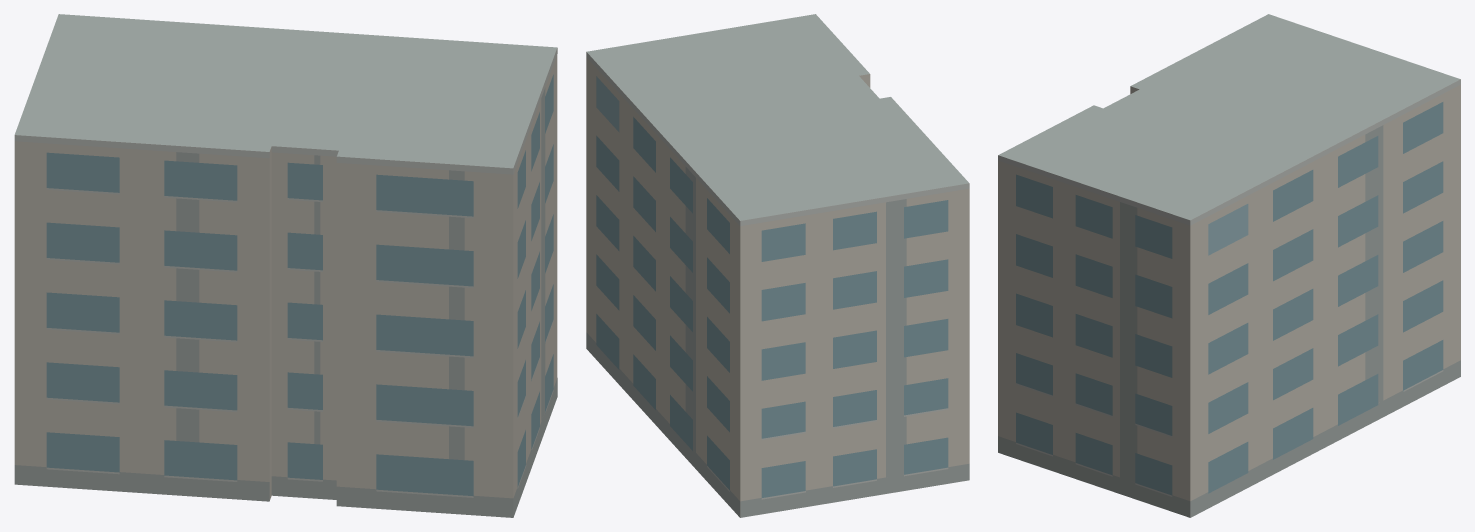
Rendered from survey-upis-32622528.glb.
3 views of the same model, side by side, from view 1: azimuth 30°, elevation 25°; view 2: azimuth 150°, elevation 25°; view 3: azimuth 270°, elevation 25° (orthographic). The views are drawn at different scales.
Visible parts, largest first — view 1: survey-upis-32622528.tmp; view 2: survey-upis-32622528.tmp; view 3: survey-upis-32622528.tmp.
Boxes of the visible parts, x1,y1,x2,y2 form: survey-upis-32622528.tmp: (14,14,557,517); survey-upis-32622528.tmp: (586,14,969,517); survey-upis-32622528.tmp: (998,14,1460,517).
Size of the model in its own units: 20.24 by 13.6 by 19.18.
